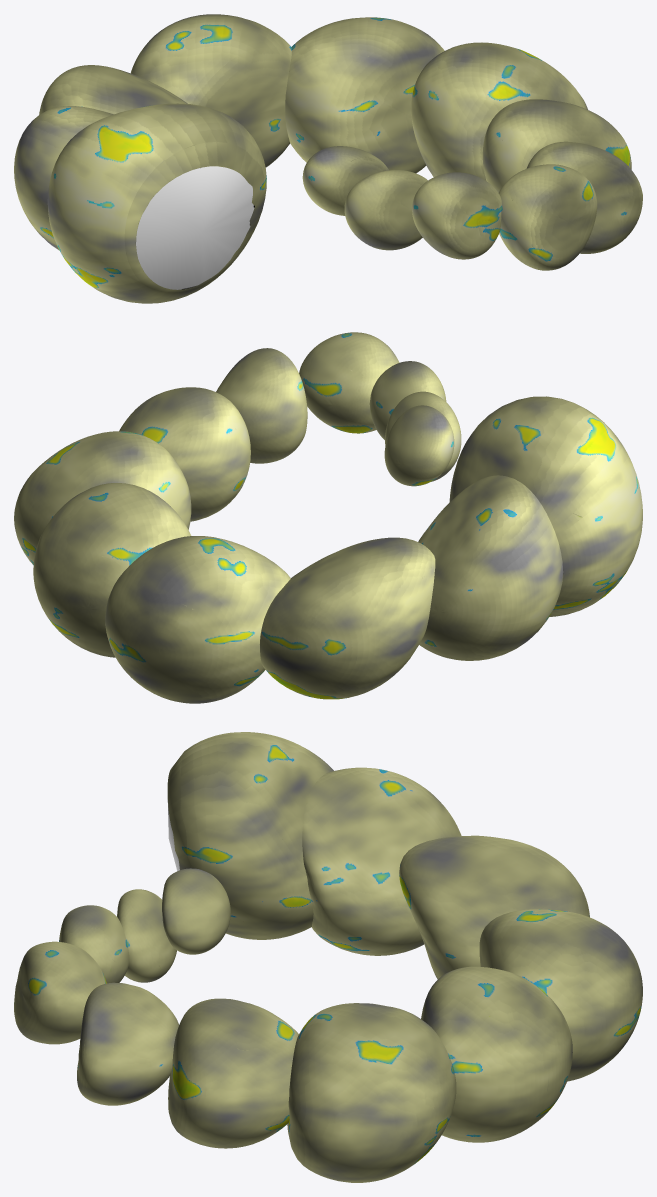
File: longwinded_idea.glb
3 renders of one model, top to bottom at view 1: azimuth 30°, elevation 25°; view 2: azimuth 150°, elevation 25°; view 3: azimuth 270°, elevation 25°, orthographic. The views are drawn at different scales.
Parts seen in each view (by area): view 1: longwindedideab; view 2: longwindedideab; view 3: longwindedideab.
Boxes of the visible parts, x1,y1,x2,y2 form: longwindedideab: (14,14,642,303); longwindedideab: (14,332,642,703); longwindedideab: (14,732,642,1182).
Bounding box in the file's own units: 0.4406 × 0.1756 × 0.4201.
2 materials, 2 textured.
